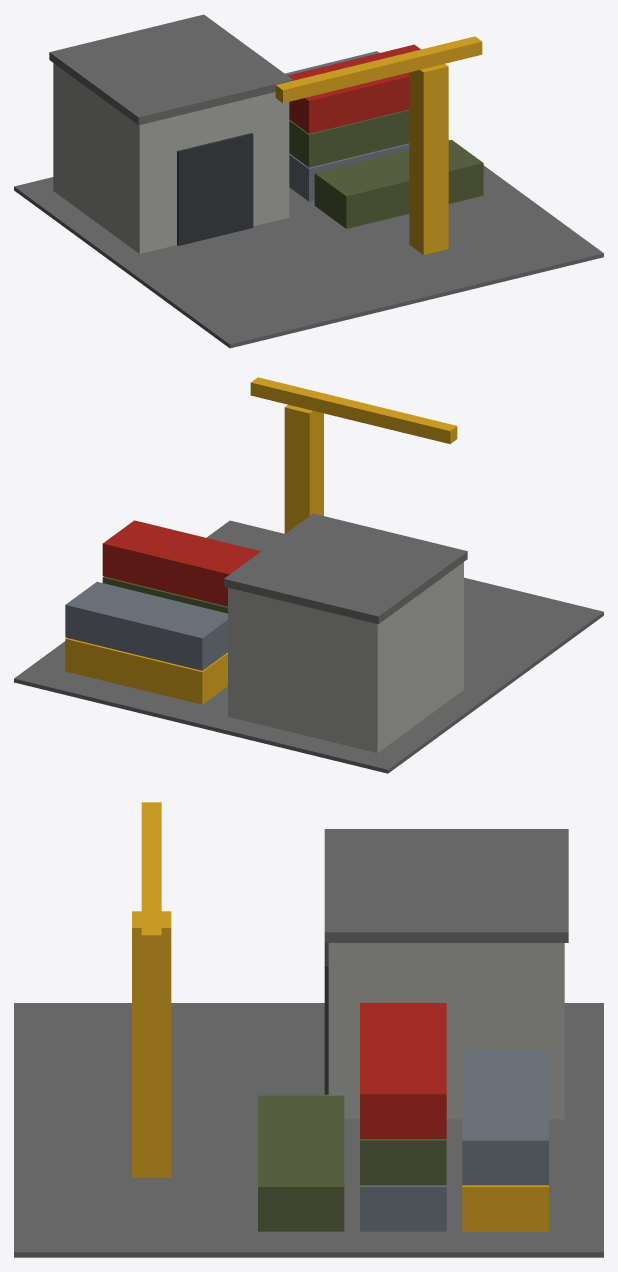
Rendered from bld_special_logistics_depot_a07_lod2.glb.
3 views of the same model, one above another, from view 1: azimuth 30°, elevation 25°; view 2: azimuth 150°, elevation 25°; view 3: azimuth 270°, elevation 25° (orthographic). The views are drawn at different scales.
Parts seen in each view (by area): view 1: body, crane; view 2: body, crane; view 3: body, crane.
Part boxes in pixels (x1,y1,x2,y2): body: [14, 14, 603, 348]; crane: [275, 36, 482, 254]; body: [14, 513, 603, 773]; crane: [250, 377, 457, 533]; body: [14, 829, 603, 1257]; crane: [132, 802, 171, 1177].
Size of the model in its own units: 15 by 7.65 by 15.
